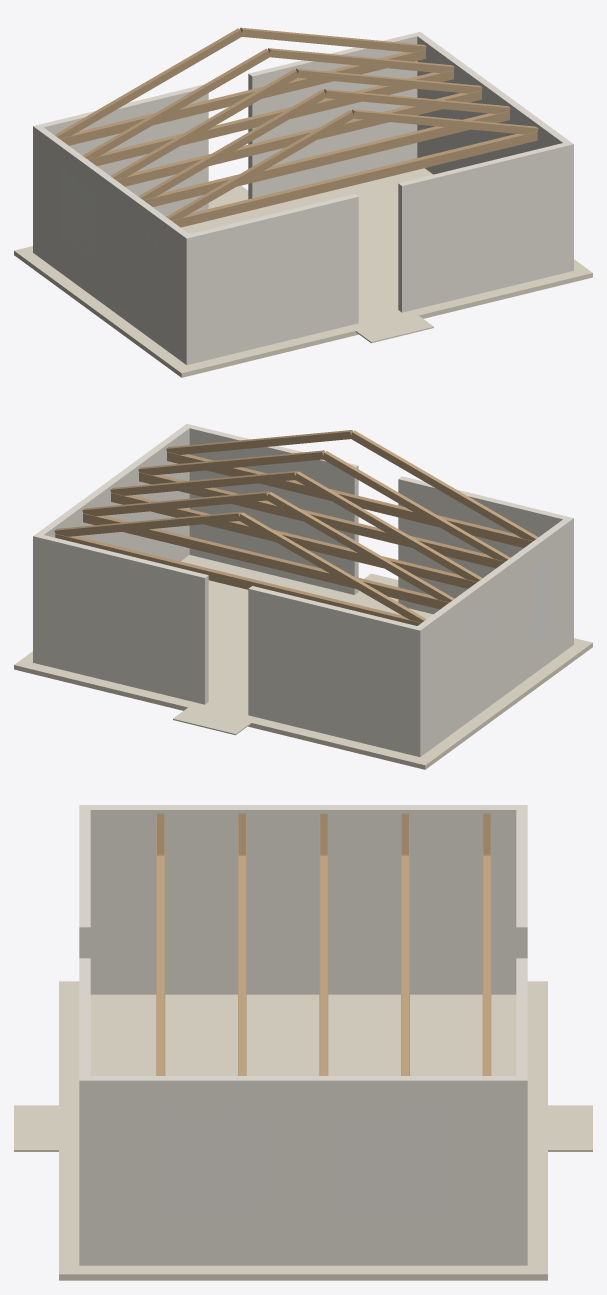
File: events-gatherings-hub.glb
3 views of the same model, one above another, from view 1: azimuth 30°, elevation 25°; view 2: azimuth 150°, elevation 25°; view 3: azimuth 270°, elevation 25° (orthographic). The views are drawn at different scales.
Visible parts, largest first — view 1: stucco, timber, stone, glass; view 2: stucco, timber, stone, glass; view 3: stucco, stone, timber.
Boxes of the visible parts, x1,y1,x2,y2 form: stucco: (33,32,573,364); timber: (54,27,538,227); stone: (14,168,592,377); glass: (61,167,157,259); stucco: (33,424,573,756); timber: (54,430,538,625); stone: (14,555,592,769); glass: (475,559,545,646); stucco: (79,805,527,1265); stone: (14,981,592,1280); timber: (156,813,491,1075).
Bounding box in the file's own units: 17 × 7.58 × 14.2.
